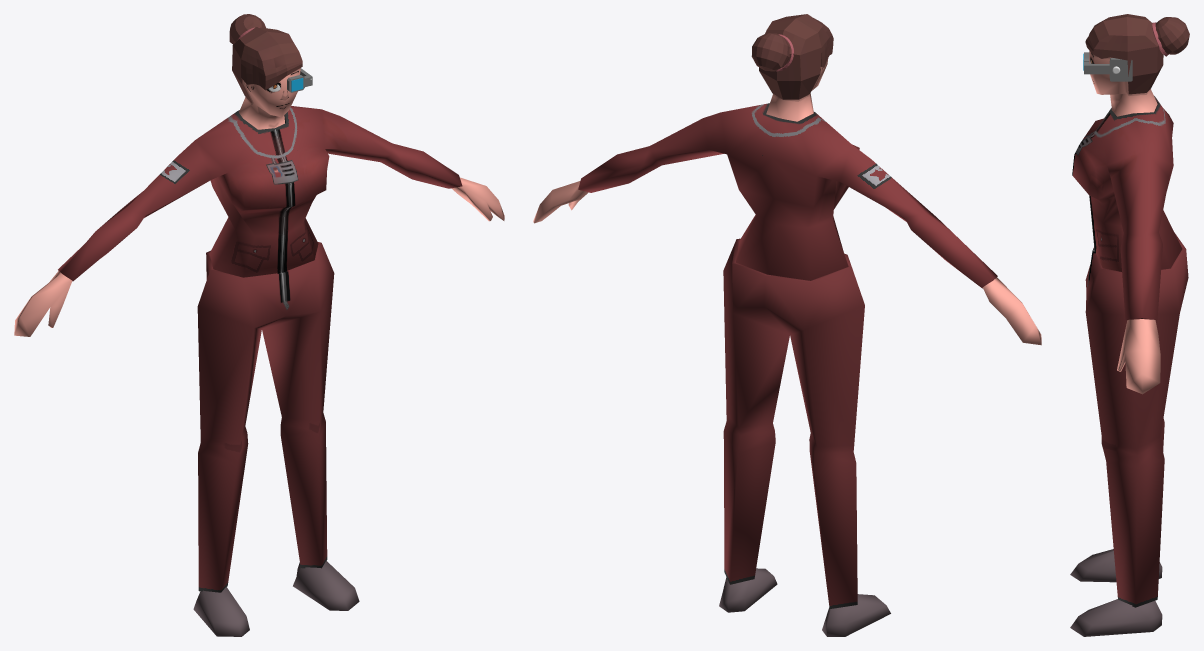
File: WomanModelAttempt3.fbx
3 views of the same model, side by side, from view 1: azimuth 30°, elevation 25°; view 2: azimuth 150°, elevation 25°; view 3: azimuth 270°, elevation 25° (orthographic). The views are drawn at different scales.
Parts seen in each view (by area): view 1: HumanoidBase_NotOverlapping.006, HumanoidBase_NotOverlapping.007, HumanoidBase_NotOverlapping.002, Shoes.003, HumanoidBase_NotOverlapping.008; view 2: HumanoidBase_NotOverlapping.006, HumanoidBase_NotOverlapping.007, HumanoidBase_NotOverlapping.008, HumanoidBase_NotOverlapping.002, Shoes.003, Sphere.003; view 3: HumanoidBase_NotOverlapping.006, HumanoidBase_NotOverlapping.007, HumanoidBase_NotOverlapping.002, HumanoidBase_NotOverlapping.008, Shoes.003, Sphere.003, Cube.012.
Boxes of the visible parts, x1,y1,x2,y2 form: HumanoidBase_NotOverlapping.006: [197, 242, 334, 592]; HumanoidBase_NotOverlapping.007: [58, 106, 462, 281]; HumanoidBase_NotOverlapping.002: [14, 68, 504, 336]; Shoes.003: [193, 560, 359, 636]; HumanoidBase_NotOverlapping.008: [232, 27, 302, 102]; HumanoidBase_NotOverlapping.006: [723, 238, 864, 608]; HumanoidBase_NotOverlapping.007: [578, 103, 997, 288]; HumanoidBase_NotOverlapping.008: [759, 14, 833, 99]; HumanoidBase_NotOverlapping.002: [533, 58, 1041, 345]; Shoes.003: [719, 568, 890, 636]; Sphere.003: [751, 33, 789, 71]; HumanoidBase_NotOverlapping.006: [1085, 233, 1188, 607]; HumanoidBase_NotOverlapping.007: [1072, 96, 1182, 320]; HumanoidBase_NotOverlapping.002: [1089, 51, 1160, 394]; HumanoidBase_NotOverlapping.008: [1085, 14, 1163, 94]; Shoes.003: [1070, 549, 1162, 636]; Sphere.003: [1155, 17, 1189, 54]; Cube.012: [1084, 52, 1132, 81].
Size of the model in its own units: 161 by 180 by 33.38.
Materials: 8 (4 with a texture image).
